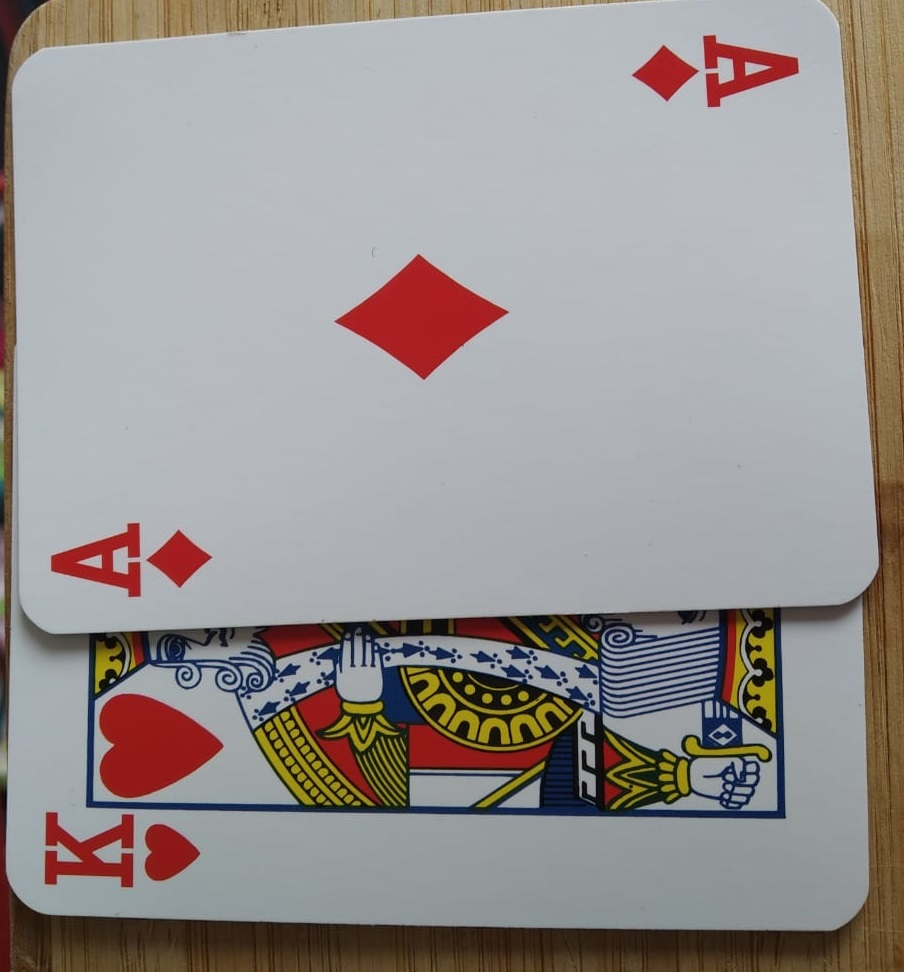ace: (1, 1, 904, 645)
king: (7, 342, 888, 964)
